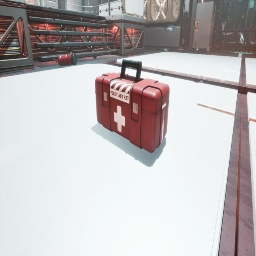0: (124, 13, 128, 15)
EmergencyPhone ,: (194, 18, 199, 31)
FireExtinguisher ]: (53, 53, 77, 66)
FirstAidBox ,: (95, 59, 170, 153)
